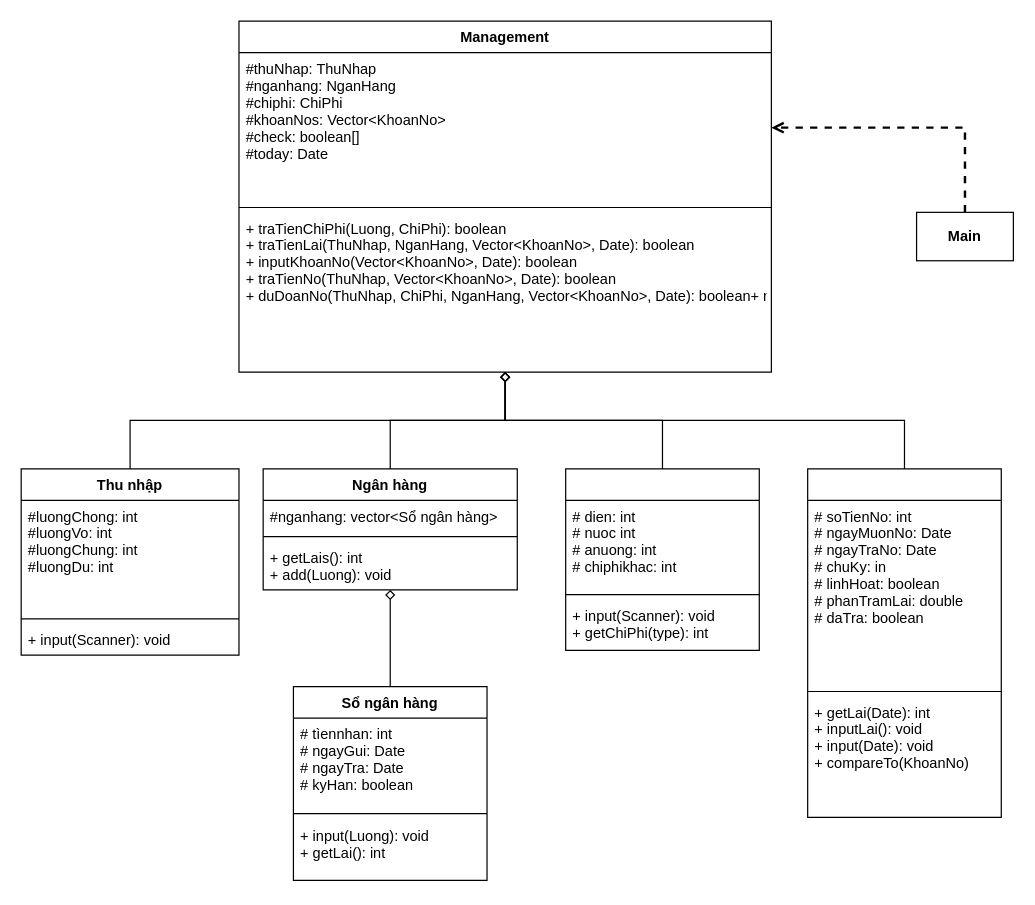
This 1035x905 diagram has some shape labels left out. The shapes that lost their labels are listed below. From the top down, each one's box as (x1, y1, x2, y2) in pixels, then its label:
(564, 468, 759, 650): Chi phí
(806, 468, 1001, 817): Khoản Nợ
